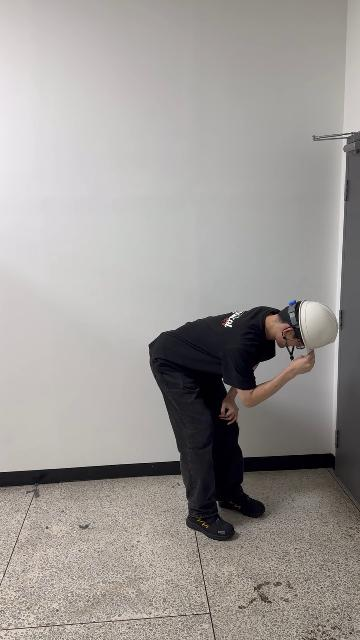helmet_worn: (296, 300, 339, 352)
shoe_worn: (187, 513, 234, 540), (219, 492, 265, 518)
vest_not_worn: (146, 309, 274, 396)
